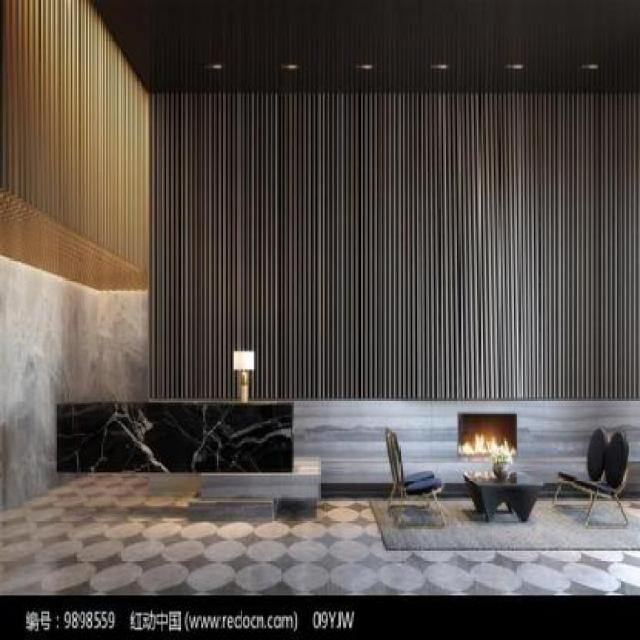frontdesk: (44, 384, 314, 484)
